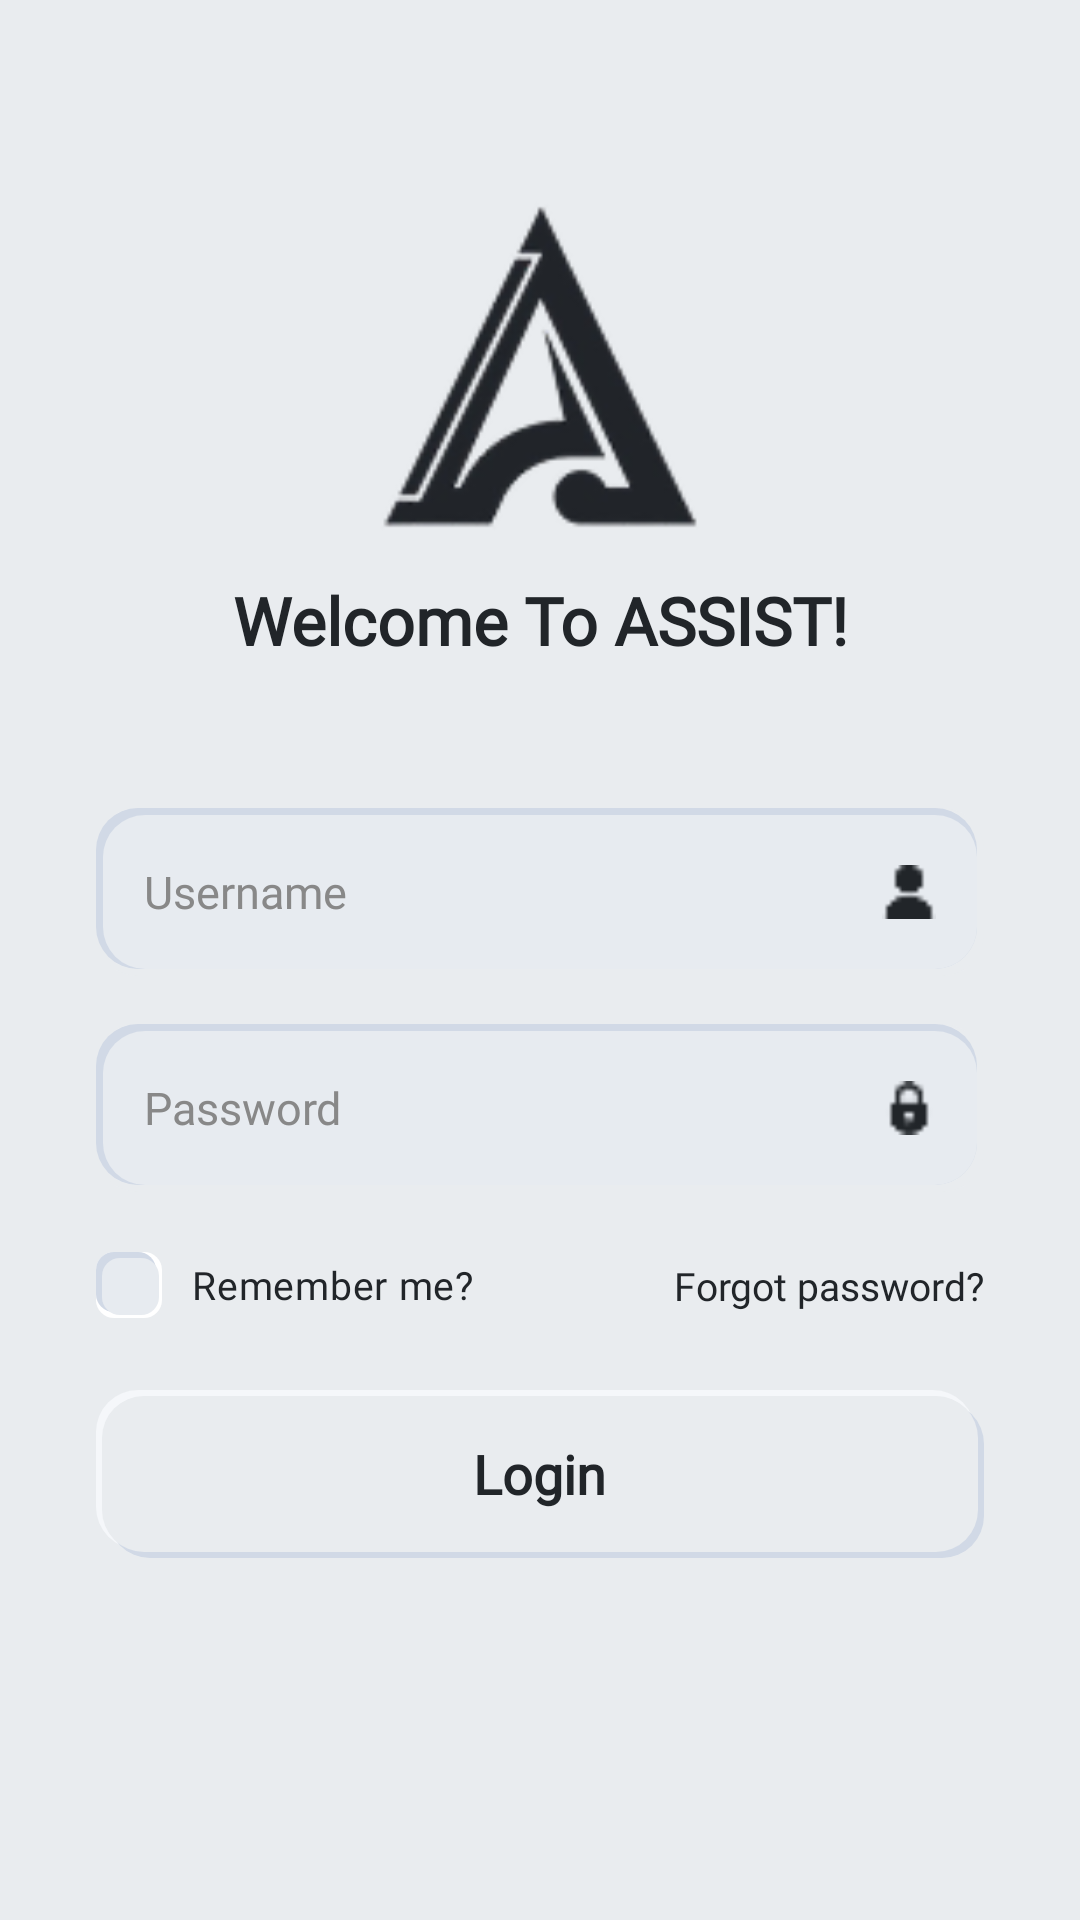

Icon bounding boxes for this 1080px x 1920px phone screenshot, format (x1, y1, x2, y2):
User icon: (885, 865, 933, 919)
